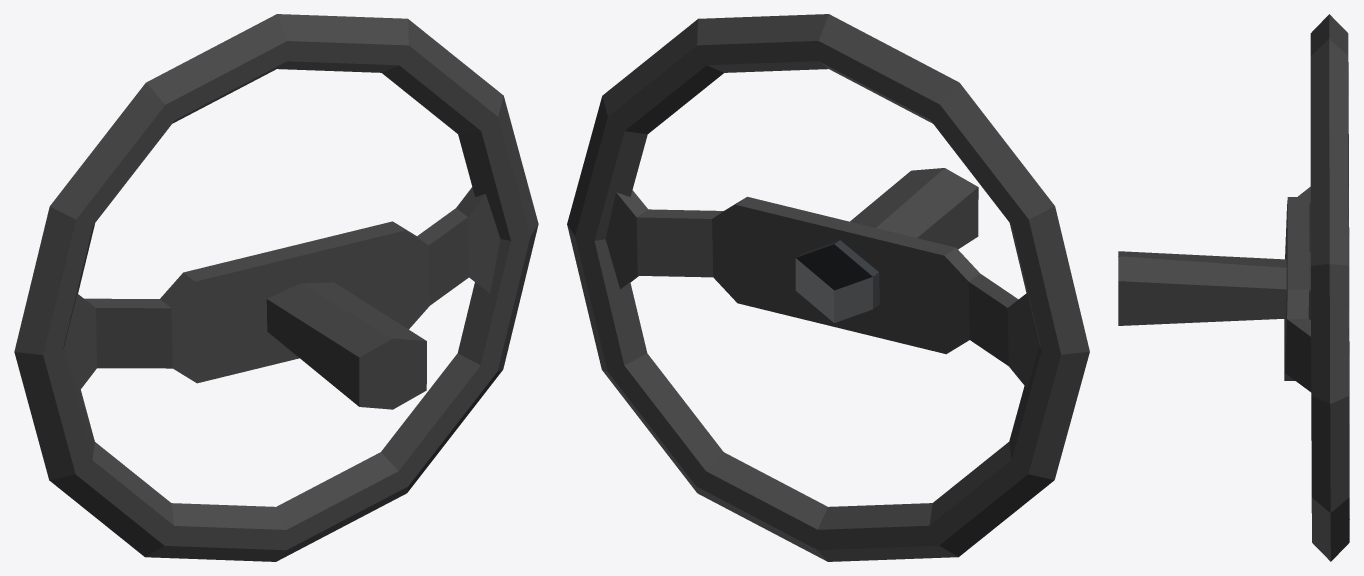
File: SM_Veh_Truck_SteeringW_867.obj
3 views of the same model, side by side, from view 1: azimuth 30°, elevation 25°; view 2: azimuth 150°, elevation 25°; view 3: azimuth 270°, elevation 25° (orthographic). The views are drawn at different scales.
Parts seen in each view (by area): view 1: SM_Veh_Truck_SteeringW_0; view 2: SM_Veh_Truck_SteeringW_0; view 3: SM_Veh_Truck_SteeringW_0.
Part boxes in pixels (x1,y1,x2,y2): SM_Veh_Truck_SteeringW_0: (14,14,538,561); SM_Veh_Truck_SteeringW_0: (567,14,1089,561); SM_Veh_Truck_SteeringW_0: (1118,14,1349,561).
Bounding box in the file's own units: 0.5056 × 0.5056 × 0.2129.
Materials: 1 (1 with a texture image).
